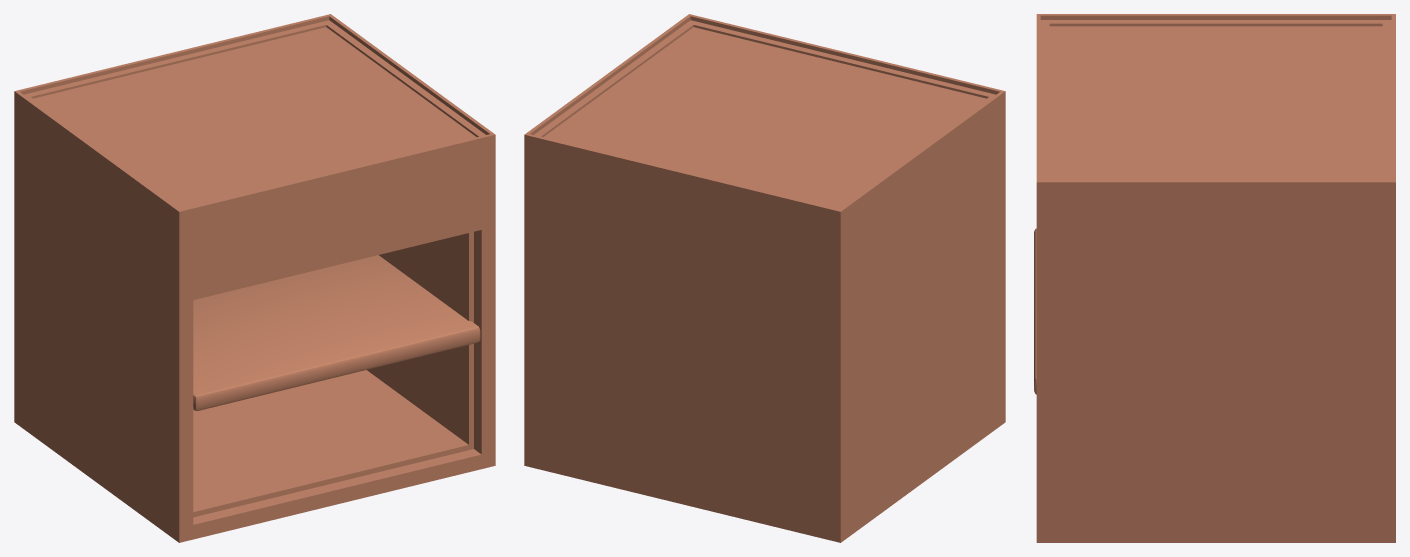
Rendered from Wooden Cabinet.fbx.
The picture shows the model from 3 angles, left to right: view 1: azimuth 30°, elevation 25°; view 2: azimuth 150°, elevation 25°; view 3: azimuth 270°, elevation 25°; orthographic projection. The views are drawn at different scales.
Parts seen in each view (by area): view 1: Wooden Cabinet; view 2: Wooden Cabinet; view 3: Wooden Cabinet.
Boxes of the visible parts, left/top/right/bottom form: Wooden Cabinet: left=14, top=14, right=495, bottom=542; Wooden Cabinet: left=524, top=14, right=1005, bottom=542; Wooden Cabinet: left=1034, top=14, right=1395, bottom=542.
Size of the model in its own units: 87.3 by 96.05 by 96.05.
